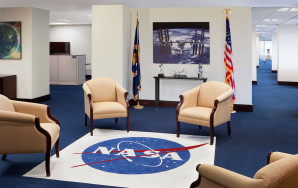NASA: (69, 135, 209, 171)
